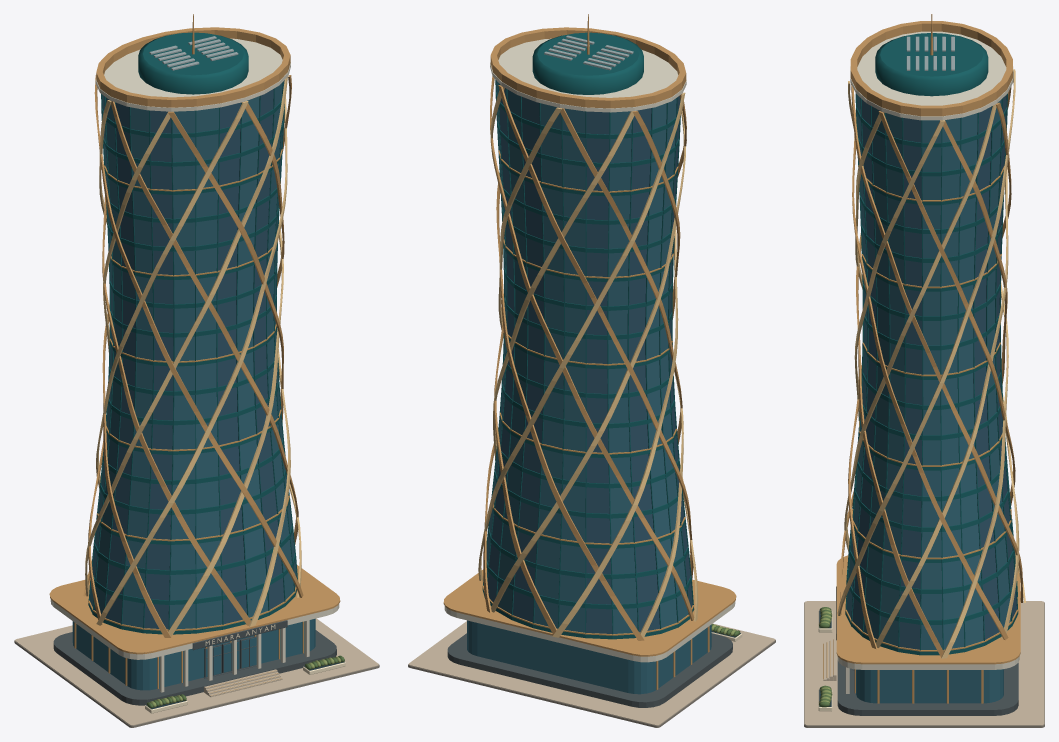
3 views of the same model, side by side, from view 1: azimuth 30°, elevation 25°; view 2: azimuth 150°, elevation 25°; view 3: azimuth 270°, elevation 25° (orthographic). The views are drawn at different scales.
Parts seen in each view (by area): view 1: Faceted Curtain Wall, Woven Exoskeleton, Banking Arcade, Crown Terrace, Street Forecourt; view 2: Faceted Curtain Wall, Woven Exoskeleton, Banking Arcade, Crown Terrace, Street Forecourt; view 3: Faceted Curtain Wall, Woven Exoskeleton, Banking Arcade, Crown Terrace, Street Forecourt.
Boxes of the visible parts, box(x1,y1,x2,y2) form: Faceted Curtain Wall: box(88, 80, 297, 634); Woven Exoskeleton: box(83, 75, 303, 637); Banking Arcade: box(49, 565, 340, 705); Crown Terrace: box(95, 14, 290, 111); Street Forecourt: box(14, 618, 379, 727); Faceted Curtain Wall: box(482, 79, 694, 639); Woven Exoskeleton: box(478, 76, 698, 640); Banking Arcade: box(443, 569, 736, 707); Crown Terrace: box(490, 14, 686, 112); Street Forecourt: box(408, 621, 775, 727); Faceted Curtain Wall: box(845, 93, 1018, 655); Woven Exoskeleton: box(837, 69, 1025, 658); Banking Arcade: box(836, 555, 1020, 715); Crown Terrace: box(850, 14, 1013, 120); Street Forecourt: box(804, 601, 1044, 727).
Bounding box in the file's own units: 30.2 × 73.7 × 24.7.
